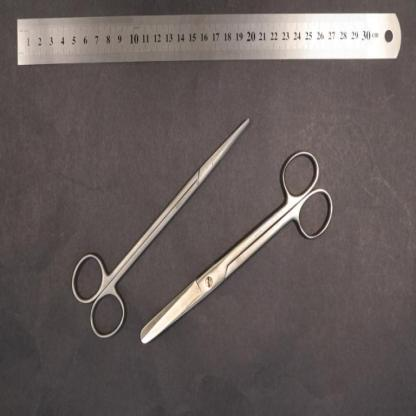7 Metzenbaum Scissors: (71, 119, 250, 340)
Dressing Scissors: (139, 148, 336, 344)
